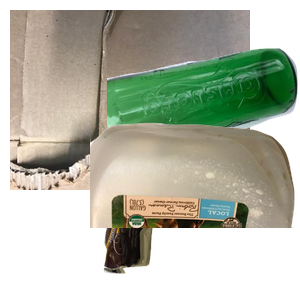cardboard: (10, 10, 250, 190)
glass: (107, 46, 300, 197)
plastic: (90, 120, 300, 300)
trash: (101, 157, 270, 300)
